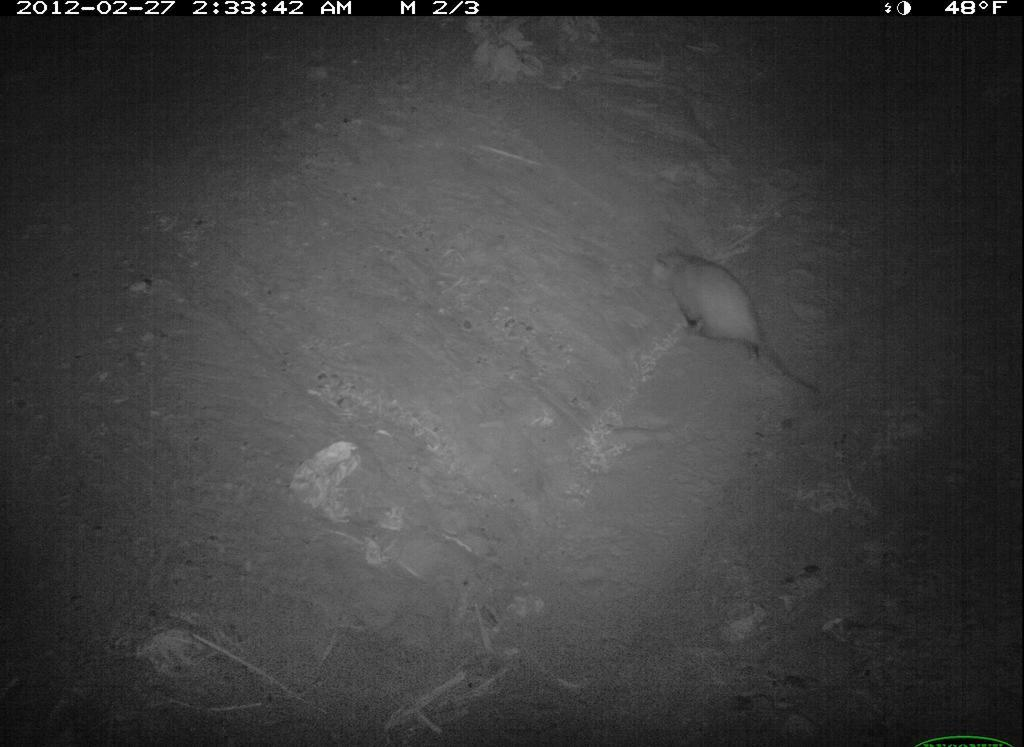opossum: (652, 236, 835, 410)
